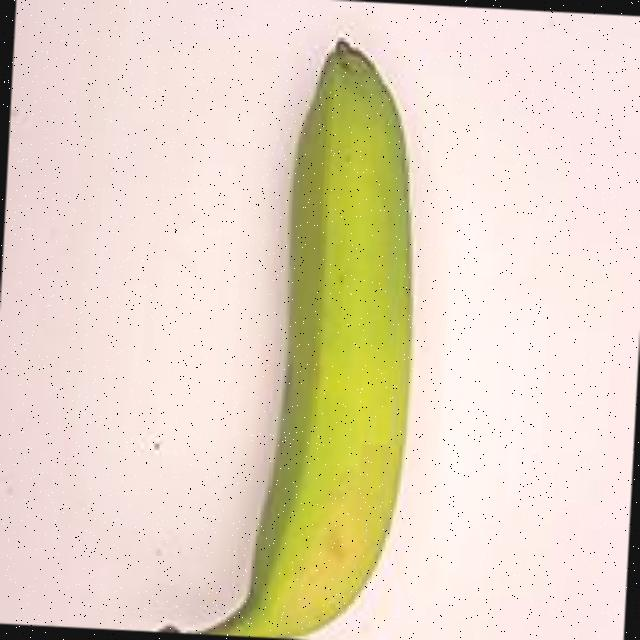Unripe: (100, 8, 486, 640)
